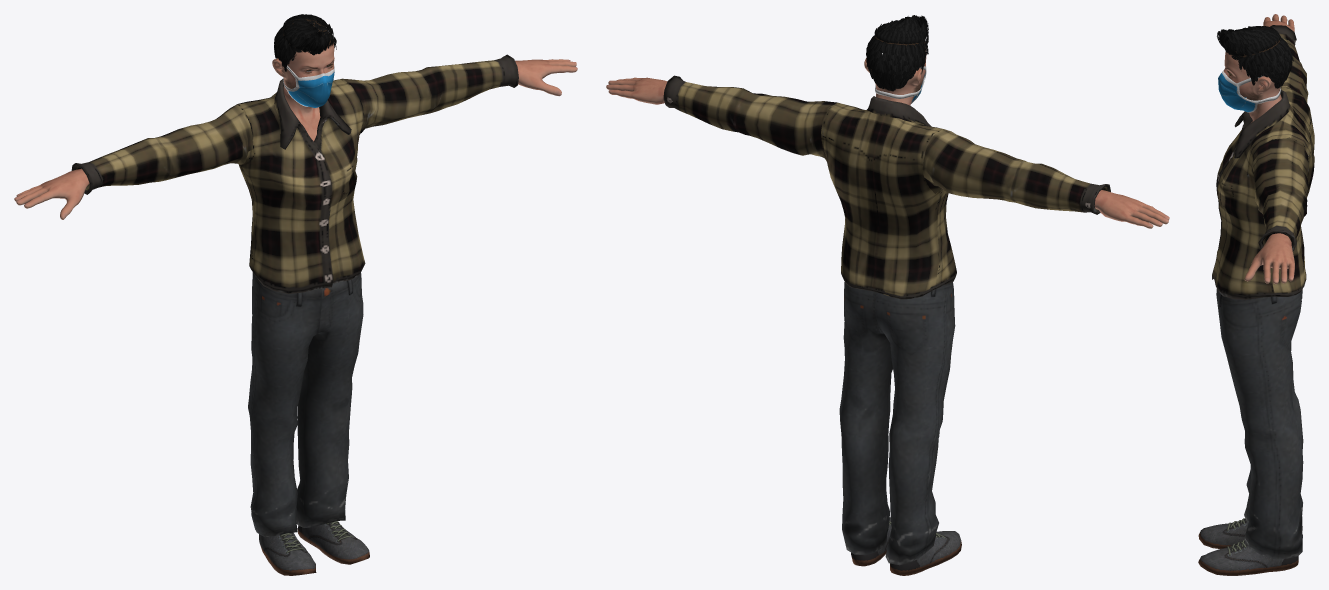
Rendered from Men.obj.
3 views of the same model, side by side, from view 1: azimuth 30°, elevation 25°; view 2: azimuth 150°, elevation 25°; view 3: azimuth 270°, elevation 25° (orthographic).
Visible parts, largest first — view 1: Tops, Bottoms, Body, Shoes, Hair, Masks; view 2: Tops, Bottoms, Body, Hair, Shoes; view 3: Tops, Bottoms, Body, Shoes, Hair, Masks.
Boxes of the visible parts, left/top/right/bottom form: Tops: left=71, top=54, right=518, bottom=293; Bottoms: left=248, top=272, right=363, bottom=537; Body: left=14, top=19, right=577, bottom=219; Shoes: left=259, top=521, right=369, bottom=575; Hair: left=274, top=14, right=336, bottom=71; Masks: left=283, top=64, right=334, bottom=107; Tops: left=663, top=75, right=1110, bottom=299; Bottoms: left=839, top=282, right=955, bottom=565; Body: left=606, top=31, right=1169, bottom=228; Hair: left=866, top=15, right=928, bottom=91; Shoes: left=851, top=517, right=961, bottom=575; Tops: left=1212, top=25, right=1314, bottom=299; Bottoms: left=1216, top=289, right=1303, bottom=559; Body: left=1223, top=14, right=1294, bottom=284; Shoes: left=1198, top=518, right=1298, bottom=575; Hair: left=1217, top=26, right=1293, bottom=88; Masks: left=1218, top=70, right=1280, bottom=112.
Bounding box in the file's own units: 39.26 × 35.74 × 7.15.
Materials: 1 (1 with a texture image).
